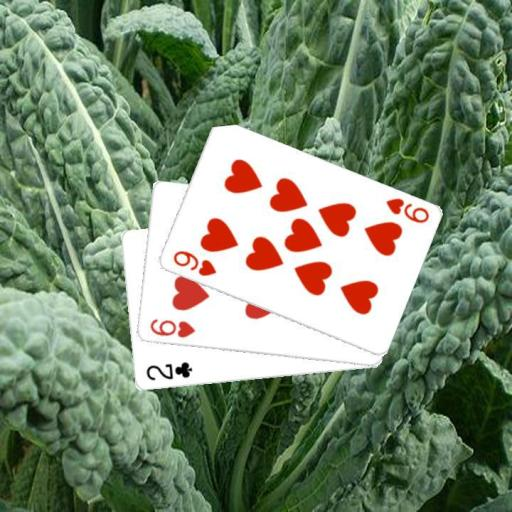2C: (143, 359, 194, 383)
6H: (147, 316, 197, 340)
9H: (169, 248, 218, 278), (382, 195, 430, 225)
